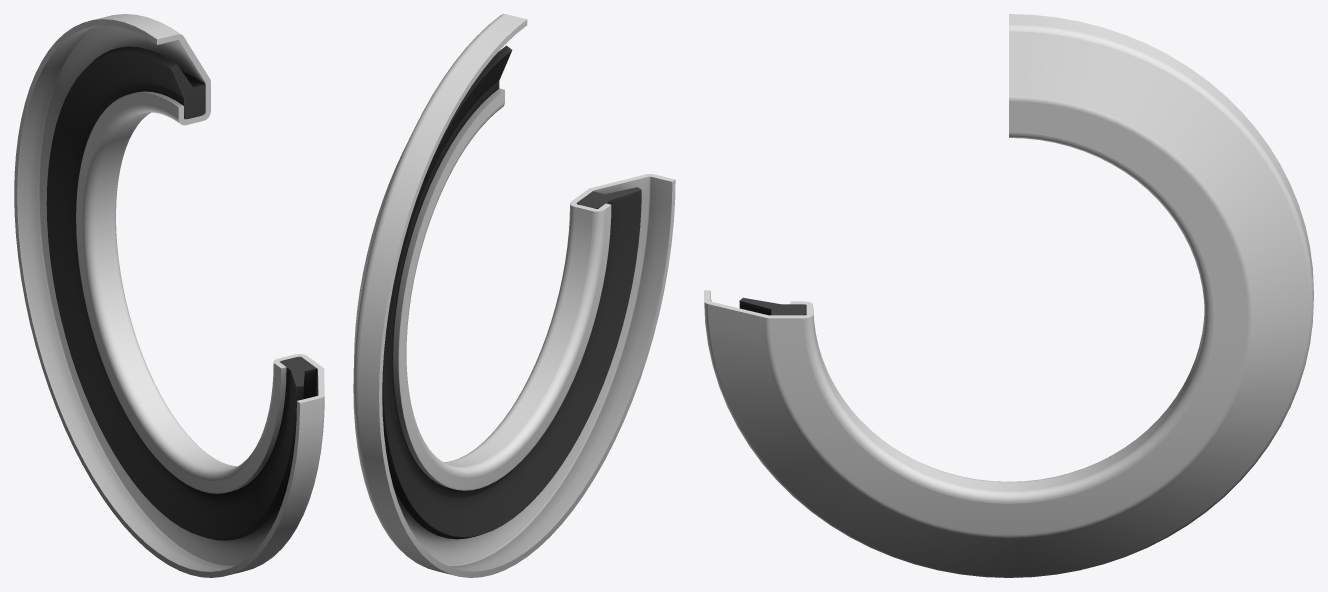
3 renders of one model, left to right at view 1: azimuth 30°, elevation 25°; view 2: azimuth 150°, elevation 25°; view 3: azimuth 270°, elevation 25°, orthographic. The views are drawn at different scales.
Visible parts, largest first — view 1: PR00118_METAL_gamma_seal, PR00118_gamma_seal; view 2: PR00118_METAL_gamma_seal, PR00118_gamma_seal; view 3: PR00118_METAL_gamma_seal, PR00118_gamma_seal.
Part boxes in pixels (x1,y1,x2,y2): PR00118_METAL_gamma_seal: (14,14,324,577); PR00118_gamma_seal: (46,46,316,540); PR00118_METAL_gamma_seal: (353,14,675,577); PR00118_gamma_seal: (382,45,641,539); PR00118_METAL_gamma_seal: (704,14,1313,577); PR00118_gamma_seal: (739,297,806,315).
Bounding box in the file's own units: 0.0215 × 0.1979 × 0.1979.
2 materials, 2 textured.
